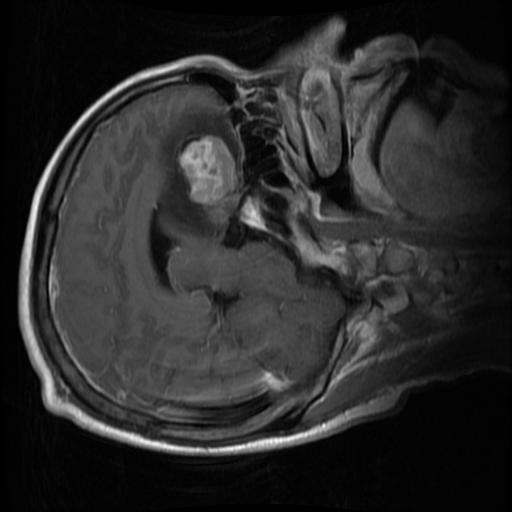meningioma: (176, 133, 239, 225)
